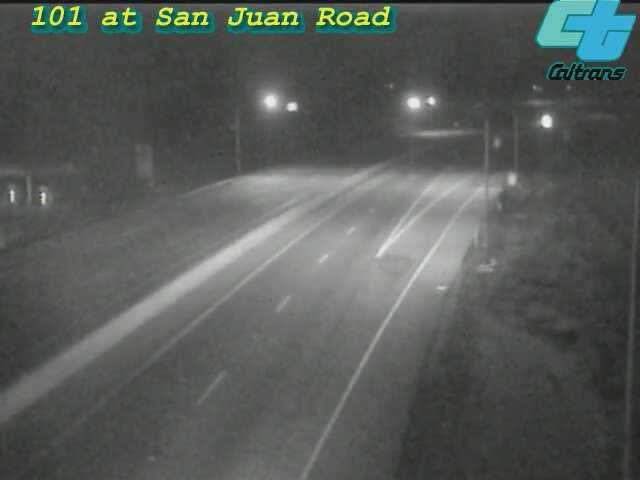vehicle: (519, 97, 569, 147)
